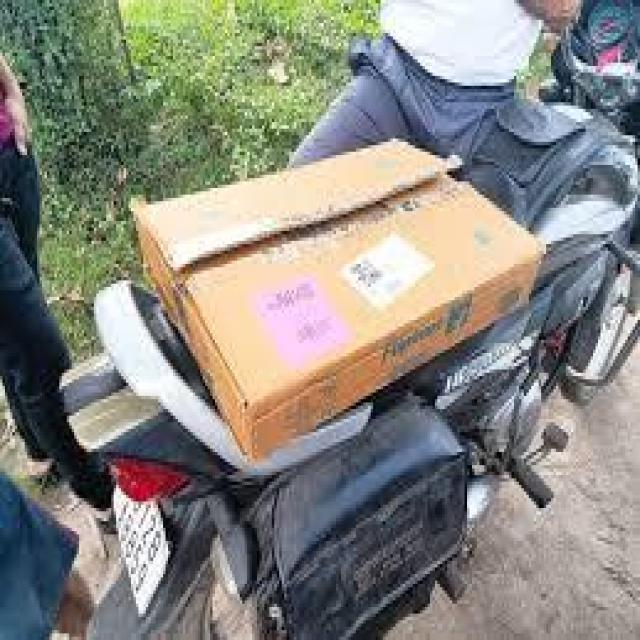box: (135, 139, 541, 459)
